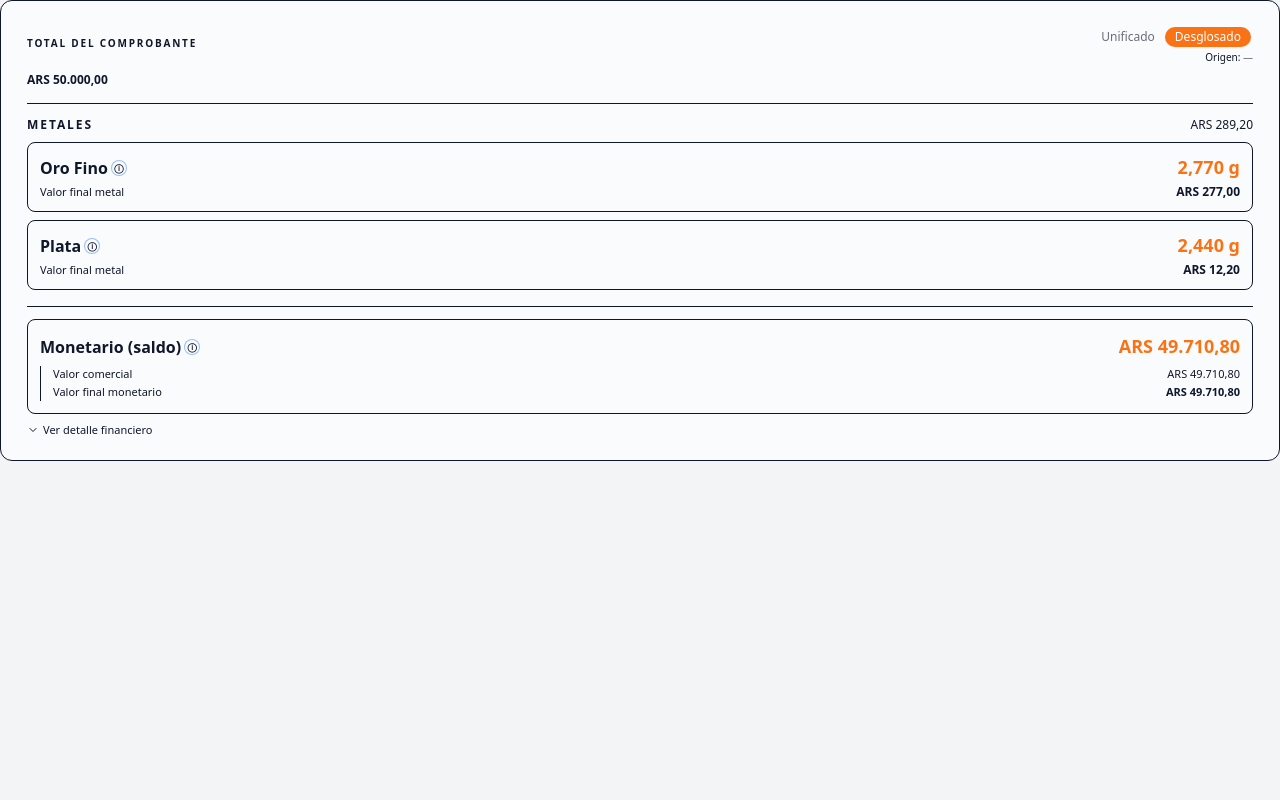
it: TotalDelComprobanteCard — modo BREAKDOWN › toggle 'Ver detalle financiero' abre el cuerpo del detalle (Etapa UX-premium v3)
The width and height of the screenshot is (1280, 800).
Click the button with test id "total-card-composicion-toggle": (90, 430) [27,422,152,438]
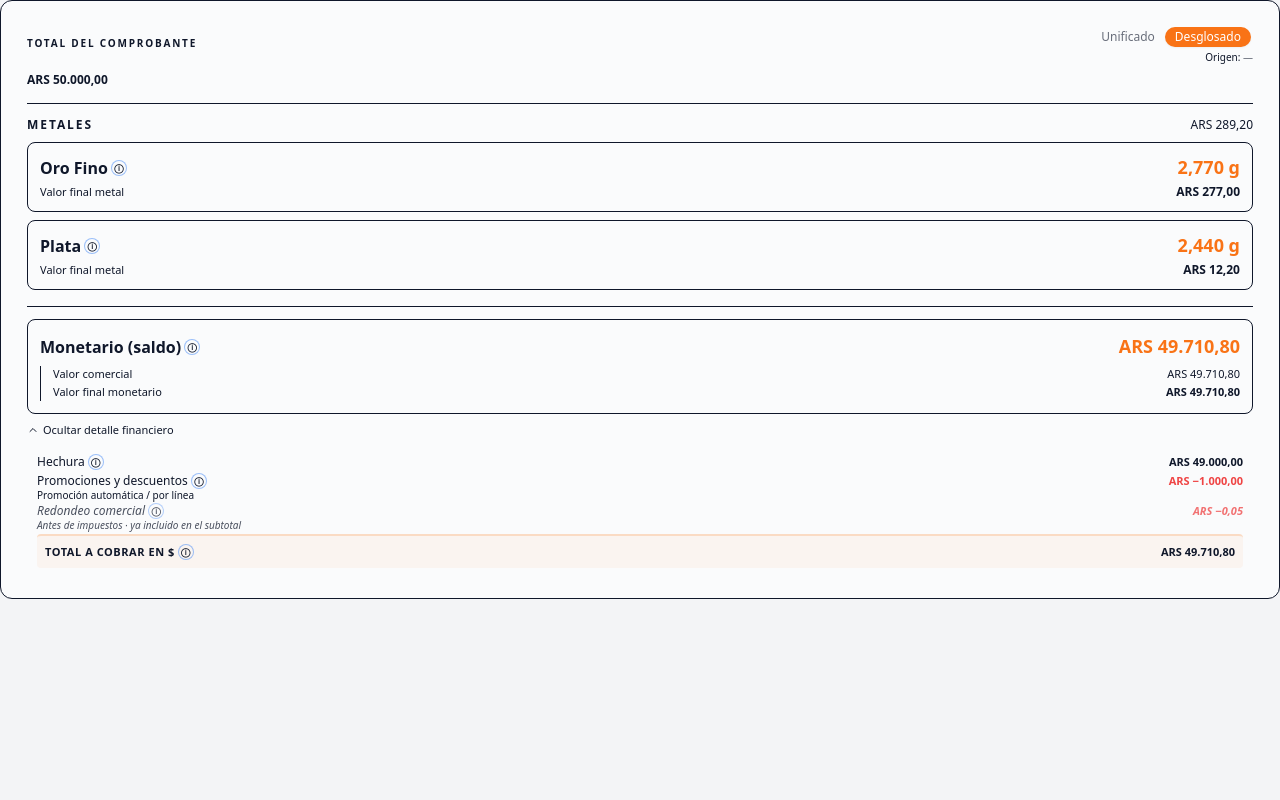
Expected: the element with test id "total-card-composicion-body" is shown, [27,446,1253,576]
Expected: the element with test id "total-card-group-ROUNDING" is shown, [37,503,1243,532]
Expected: the button with test id "total-card-composicion-toggle" reads "Ocultar detalle financiero", [27,422,174,438]
